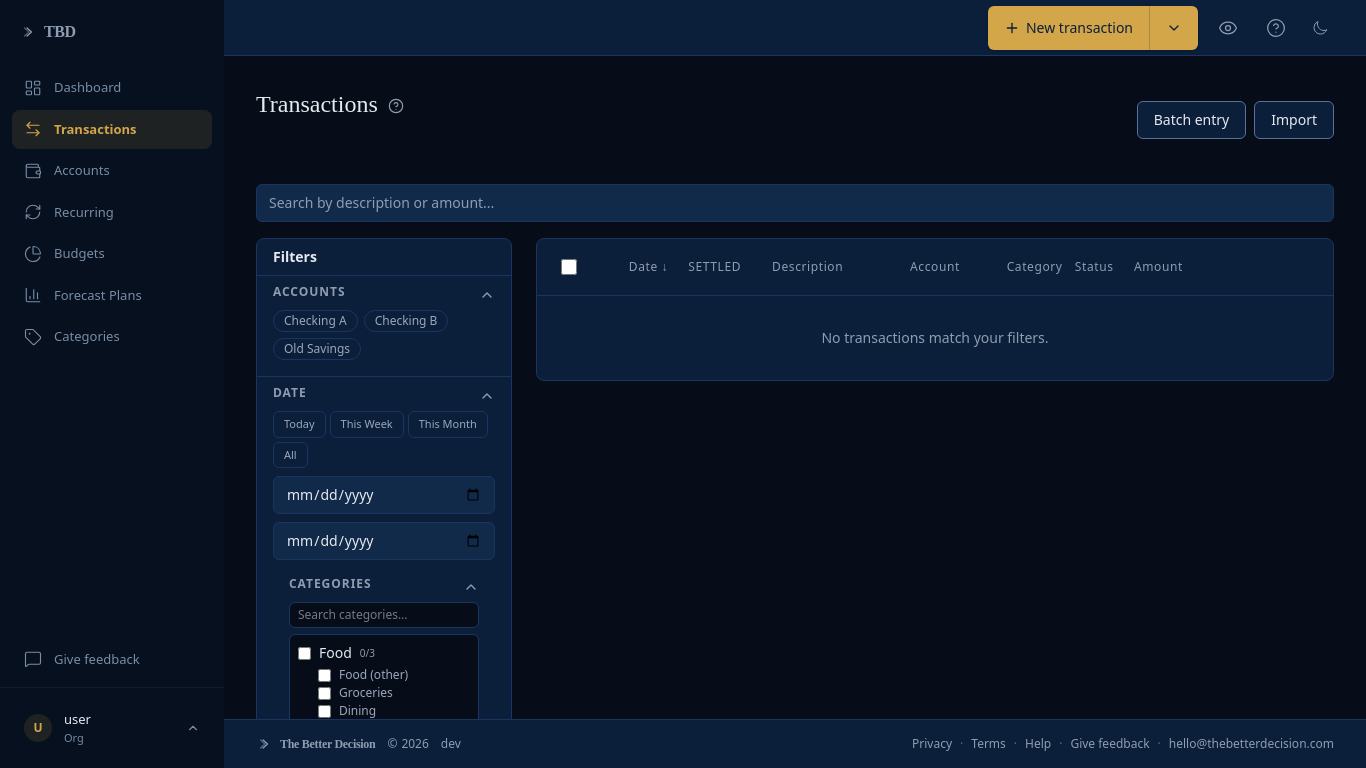
TransactionsPage — filter side panel (TBD-464) › the category search narrows the tree
Expected: the button with aria-label "Account Checking A" is shown, [273,310,358,332]
Expected: the checkbox named "Category Food" is shown, [298,646,311,660]
Step 1. Type "din" into the field labelled "Search categories" → (384, 615), box [289,602,479,628]
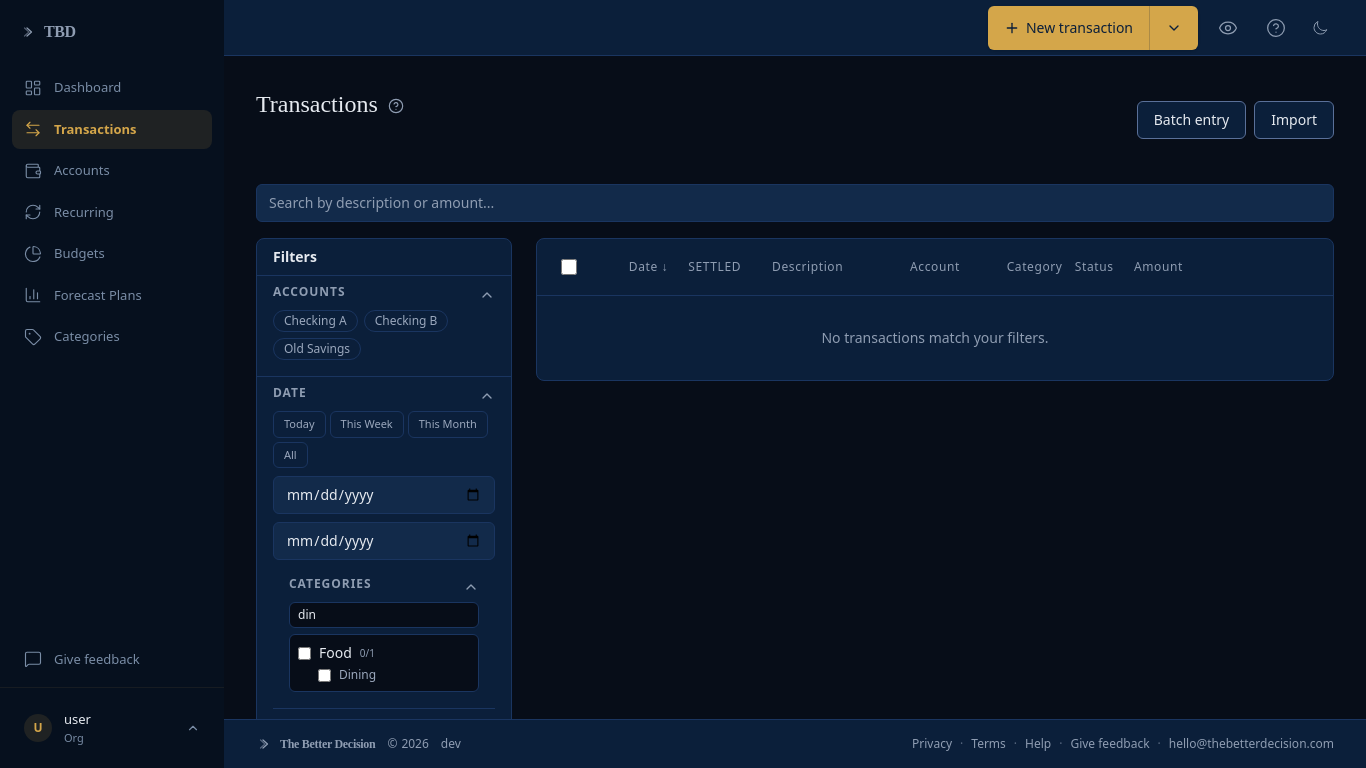
Expected: the checkbox named "Category Dining" is shown, [318,668,331,682]
Now the checkbox labelled "Category Groceries" is gone
